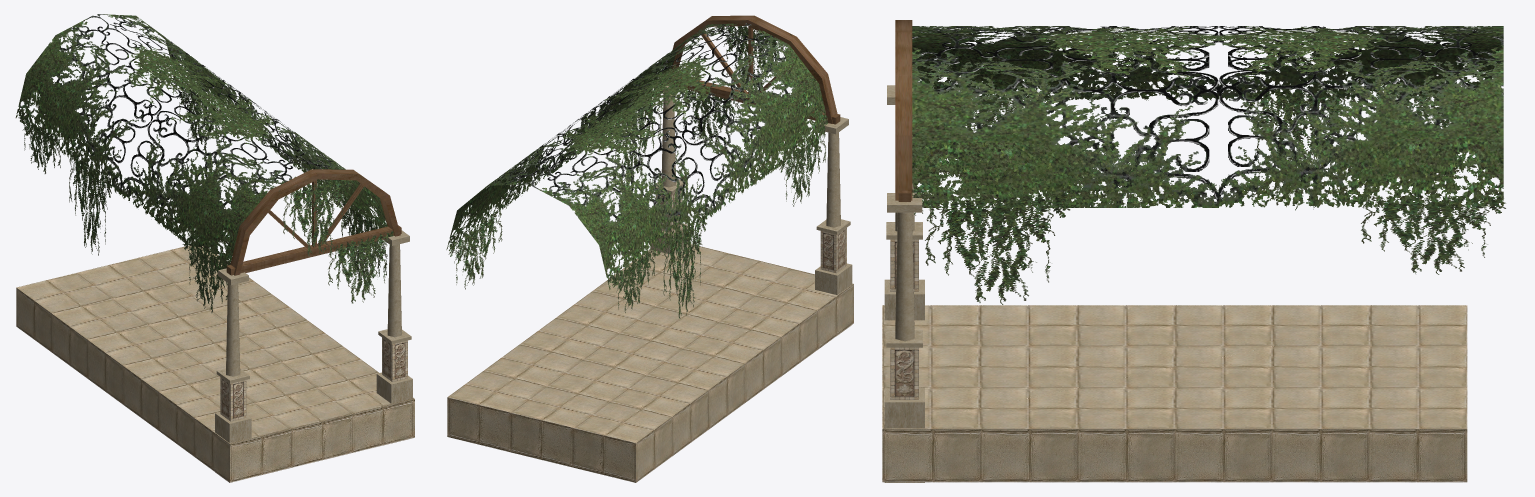
File: thm_nboo_imprv_arbor_long_s01_l0.fbx
3 renders of one model, left to right at view 1: azimuth 30°, elevation 25°; view 2: azimuth 150°, elevation 25°; view 3: azimuth 270°, elevation 25°, orthographic. The views are drawn at different scales.
Visible parts, largest first — view 1: mesh_node; view 2: mesh_node; view 3: mesh_node.
Boxes of the visible parts, <box> form: mesh_node: <box>15,14,414,482</box>; mesh_node: <box>446,15,853,482</box>; mesh_node: <box>882,20,1505,482</box>.
Bounding box in the file's own units: 4 × 5.86 × 8.73.
6 materials, 6 textured.
